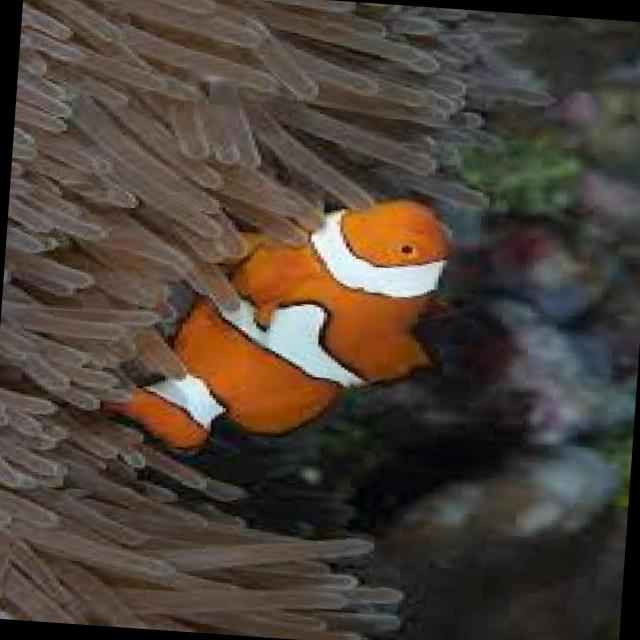ClownFish: (96, 176, 452, 469)
